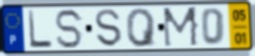0: (199, 6, 227, 47)
L: (26, 9, 55, 50)
M: (162, 6, 201, 49)
Q: (124, 7, 158, 49)
S: (53, 8, 85, 51), (94, 8, 124, 49)
